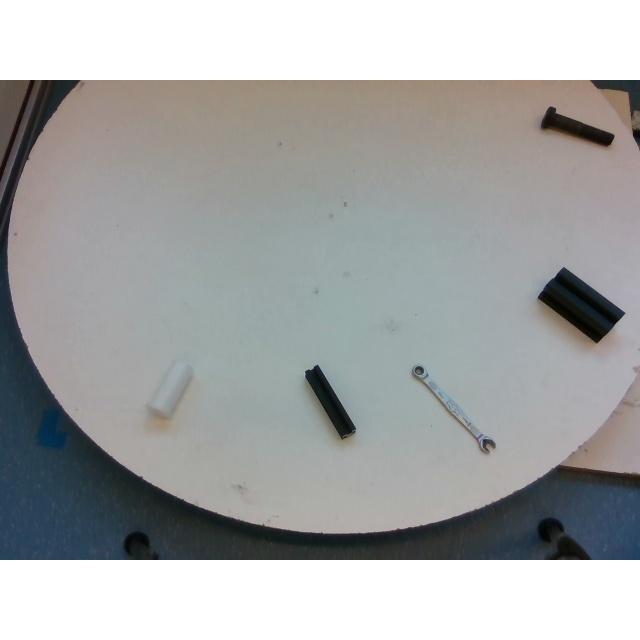F20_20_B: (305, 366, 355, 434)
M20_100: (540, 105, 616, 147)
S40_40_B: (536, 267, 624, 341)
Spacer: (148, 362, 192, 416)
Wrench: (412, 366, 496, 452)
